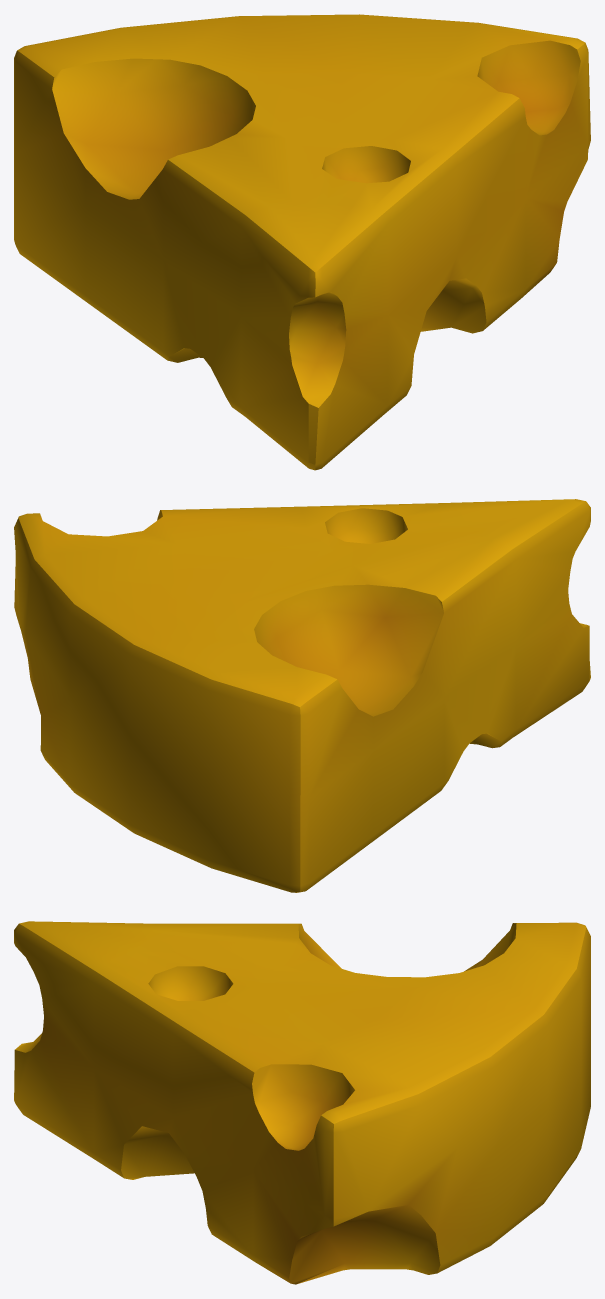
File: cheese.glb
The picture shows the model from 3 angles, top to bottom: view 1: azimuth 30°, elevation 25°; view 2: azimuth 150°, elevation 25°; view 3: azimuth 270°, elevation 25°; orthographic projection. The views are drawn at different scales.
Visible parts, largest first — view 1: Cheese; view 2: Cheese; view 3: Cheese.
Part boxes in pixels (x1,y1,x2,y2): Cheese: (14, 14, 590, 470); Cheese: (14, 499, 590, 892); Cheese: (14, 921, 590, 1284).
Bounding box in the file's own units: 0.2599 × 0.1185 × 0.3087.
